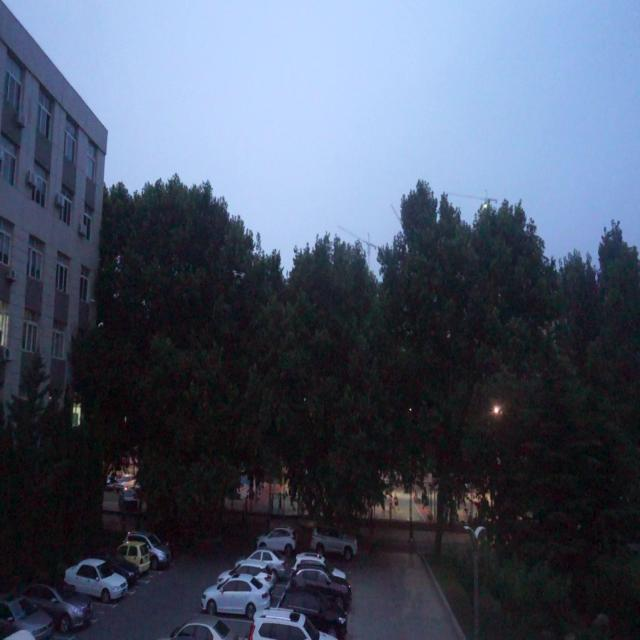drone: (230, 265, 247, 286)
